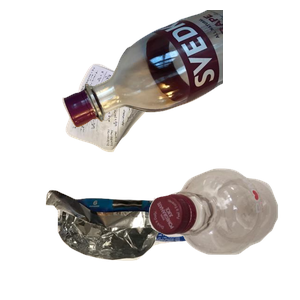glass: (60, 10, 300, 130)
paper: (63, 61, 242, 206)
plastic: (146, 166, 300, 300)
trash: (43, 187, 234, 300)
